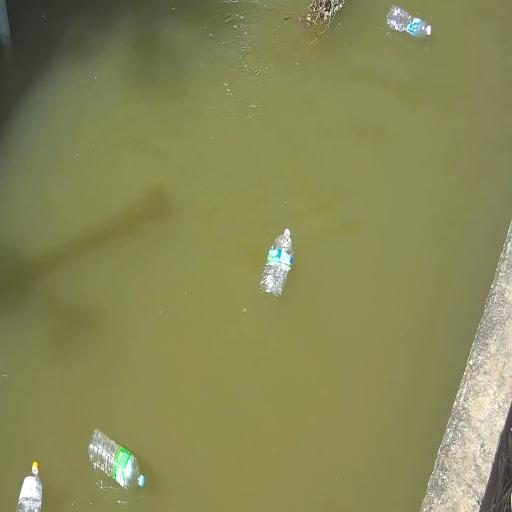plastic: (89, 430, 145, 489), (260, 229, 293, 298), (387, 5, 431, 38), (17, 462, 42, 511)
